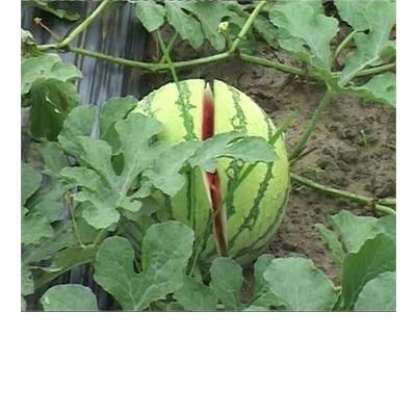duahau: (129, 66, 294, 267)
